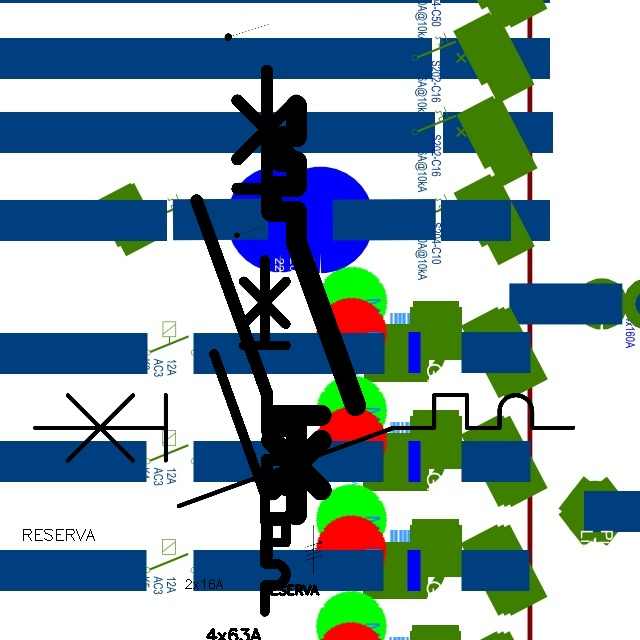interruptor_termomagnetico: (21, 381, 587, 519), (184, 58, 309, 568), (261, 95, 366, 525), (205, 250, 295, 620)
